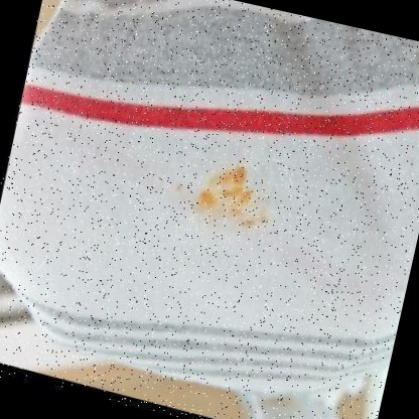kimchi: (190, 163, 282, 238)
